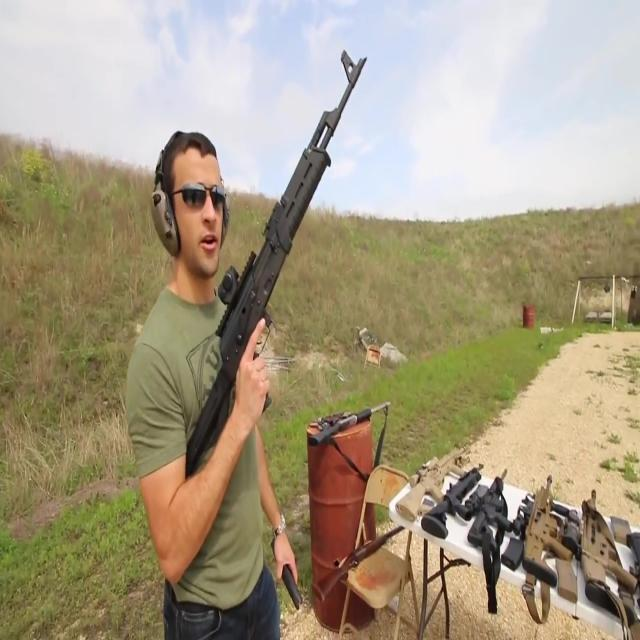Weapon: (192, 18, 366, 568), (403, 435, 640, 633), (304, 520, 420, 604), (299, 371, 393, 469), (260, 521, 330, 615)
